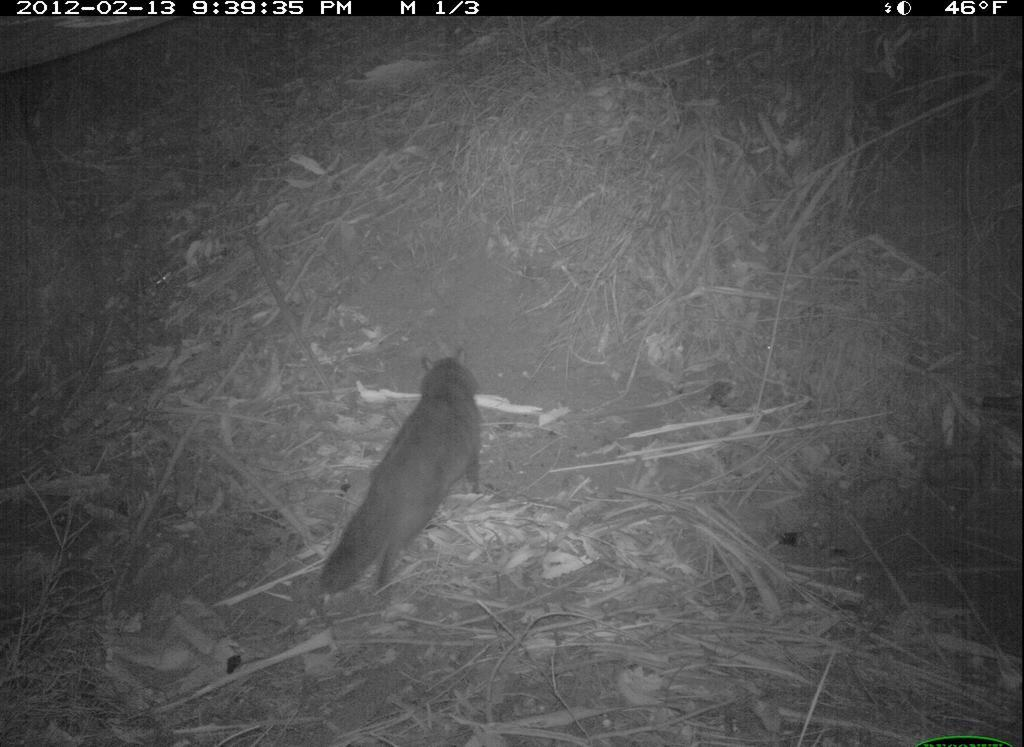cat: (324, 327, 497, 593)
